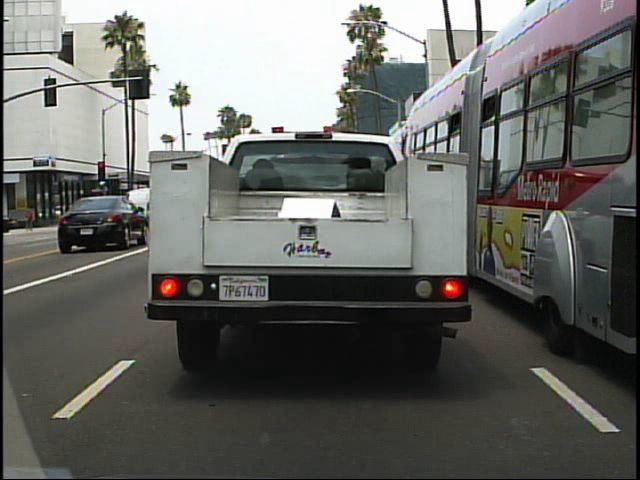person: (23, 205, 37, 236)
